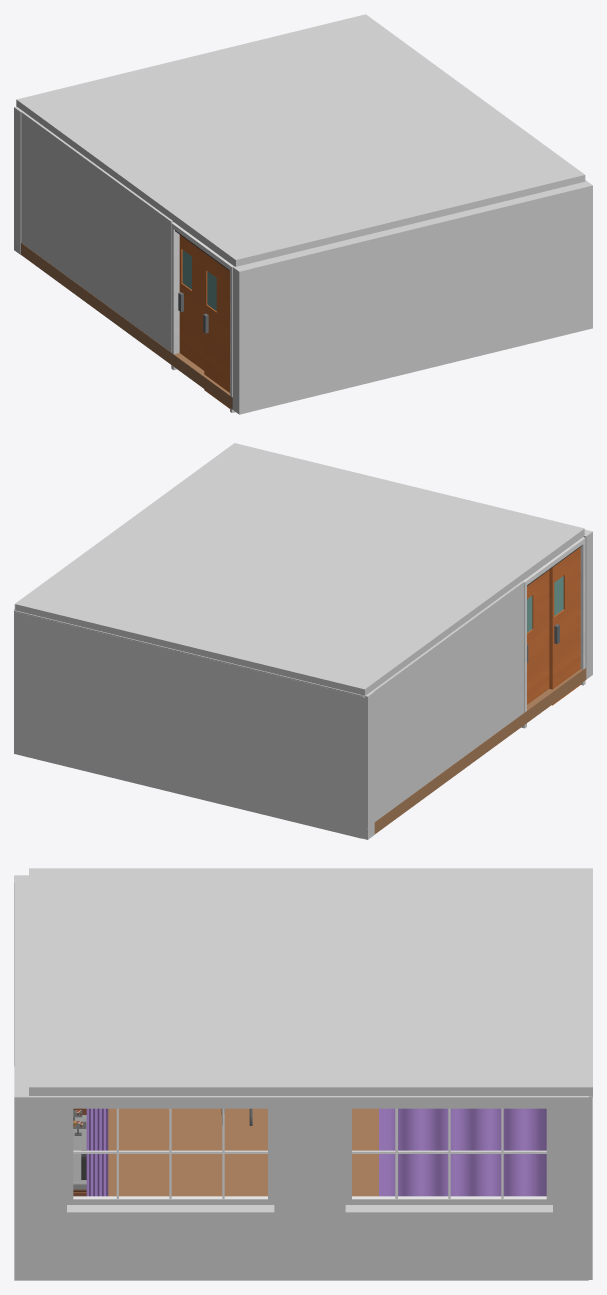
File: cafeteria_glb.glb
The picture shows the model from 3 angles, top to bottom: view 1: azimuth 30°, elevation 25°; view 2: azimuth 150°, elevation 25°; view 3: azimuth 270°, elevation 25°; orthographic projection. The views are drawn at different scales.
Parts seen in each view (by area): view 1: ceiling, CAFETERIAdemoscene_52, column.002, ClassRoomDoor_8.001, ClassRoomDoor_10.001, DoorClassroom_1, column.001, column.004; view 2: ceiling, column.003, column.002, CAFETERIAdemoscene_52, ClassRoomDoor_8.001, ClassRoomDoor_10.001, column.004, DoorClassroom_1; view 3: ceiling, CAFETERIAdemoscene_52, CAFETERIAdemoscene_50, CAFETERIAdemoscene_51, column.003, CAFETERIAdemoscene_29.
Boxes of the visible parts, <box> form: ceiling: <box>16,14,585,266</box>; CAFETERIAdemoscene_52: <box>21,180,592,414</box>; column.002: <box>15,107,173,351</box>; ClassRoomDoor_8.001: <box>203,253,229,408</box>; ClassRoomDoor_10.001: <box>178,235,204,370</box>; DoorClassroom_1: <box>171,222,235,412</box>; column.001: <box>239,269,251,414</box>; column.004: <box>14,106,21,254</box>; ceiling: <box>14,443,584,697</box>; column.003: <box>14,610,361,838</box>; column.002: <box>366,581,523,821</box>; CAFETERIAdemoscene_52: <box>14,529,592,834</box>; ClassRoomDoor_8.001: <box>549,547,580,705</box>; ClassRoomDoor_10.001: <box>527,570,549,704</box>; column.004: <box>362,691,374,839</box>; DoorClassroom_1: <box>521,537,585,728</box>; ceiling: <box>29,868,592,1097</box>; CAFETERIAdemoscene_52: <box>14,875,588,1280</box>; CAFETERIAdemoscene_50: <box>379,1108,546,1196</box>; CAFETERIAdemoscene_51: <box>86,1108,108,1196</box>; column.003: <box>588,1096,592,1279</box>; CAFETERIAdemoscene_29: <box>73,1108,86,1196</box>.
Bounding box in the file's own units: 9.17 × 3.8 × 10.11.
Materials: 11 (10 with a texture image).
